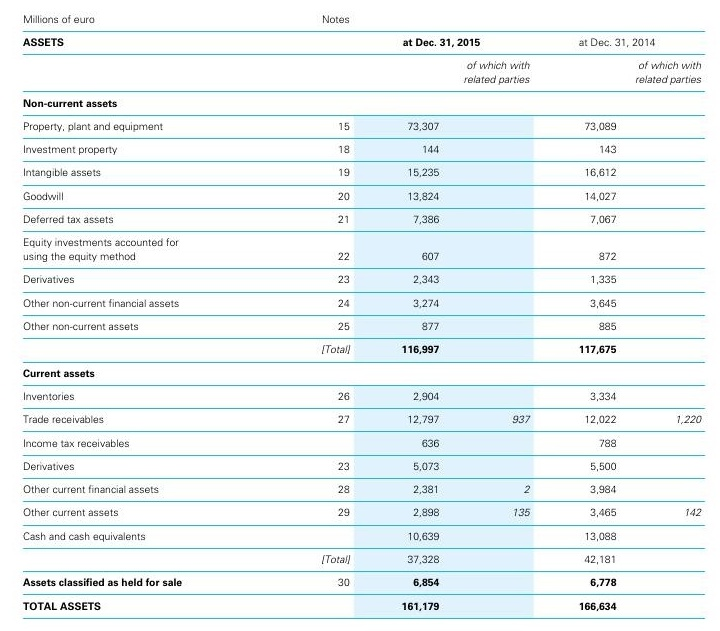table: (0, 0, 720, 631)
